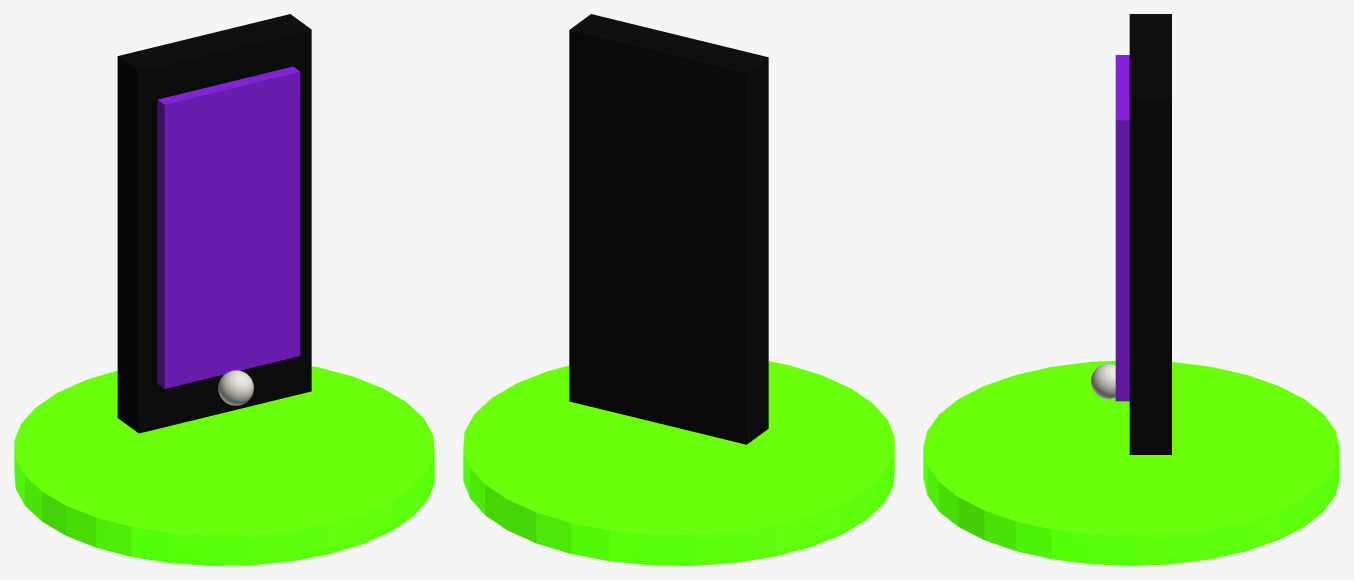
The model's file is tech_smartphone.dae.
3 renders of one model, left to right at view 1: azimuth 30°, elevation 25°; view 2: azimuth 150°, elevation 25°; view 3: azimuth 270°, elevation 25°, orthographic. The views are drawn at different scales.
Visible parts, largest first — view 1: 08_01_Popular_Tech_Smartphone_ROOT_base, 08_01_Popular_Tech_Smartphone_part_02, 08_01_Popular_Tech_Smartphone_part_01, 08_01_Popular_Tech_Smartphone_part_03; view 2: 08_01_Popular_Tech_Smartphone_part_01, 08_01_Popular_Tech_Smartphone_ROOT_base; view 3: 08_01_Popular_Tech_Smartphone_ROOT_base, 08_01_Popular_Tech_Smartphone_part_01, 08_01_Popular_Tech_Smartphone_part_02, 08_01_Popular_Tech_Smartphone_part_03.
Boxes of the visible parts, bbox=[...] form: 08_01_Popular_Tech_Smartphone_ROOT_base: bbox=[14, 366, 434, 565]; 08_01_Popular_Tech_Smartphone_part_02: bbox=[157, 66, 300, 388]; 08_01_Popular_Tech_Smartphone_part_01: bbox=[117, 14, 311, 433]; 08_01_Popular_Tech_Smartphone_part_03: bbox=[218, 370, 253, 405]; 08_01_Popular_Tech_Smartphone_part_01: bbox=[569, 14, 768, 444]; 08_01_Popular_Tech_Smartphone_ROOT_base: bbox=[463, 361, 894, 565]; 08_01_Popular_Tech_Smartphone_ROOT_base: bbox=[923, 360, 1339, 565]; 08_01_Popular_Tech_Smartphone_part_01: bbox=[1129, 14, 1171, 454]; 08_01_Popular_Tech_Smartphone_part_02: bbox=[1115, 55, 1129, 401]; 08_01_Popular_Tech_Smartphone_part_03: bbox=[1091, 364, 1115, 398].
Bounding box in the file's own units: 0.76 × 0.85 × 0.76.
